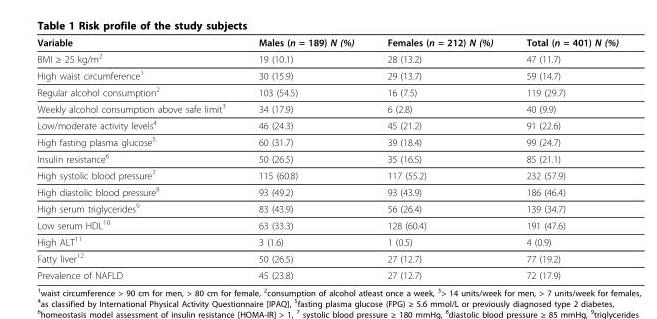table: (36, 36, 617, 280)
table column: (36, 36, 241, 280), (370, 36, 509, 280), (241, 36, 370, 280), (509, 36, 617, 280)
table column header: (36, 36, 617, 49)
table row: (36, 49, 617, 66), (36, 82, 617, 99), (36, 99, 617, 116), (36, 132, 617, 149), (36, 149, 617, 166), (36, 182, 617, 199), (36, 199, 617, 216), (36, 232, 617, 249), (36, 249, 617, 266), (36, 66, 617, 82), (36, 116, 617, 132), (36, 166, 617, 182), (36, 216, 617, 232), (36, 266, 617, 280), (36, 36, 617, 49)
